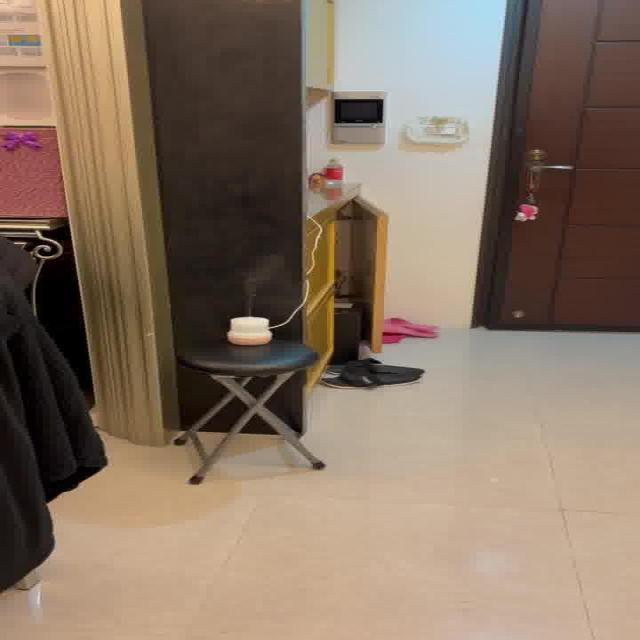fire: (232, 254, 291, 304)
